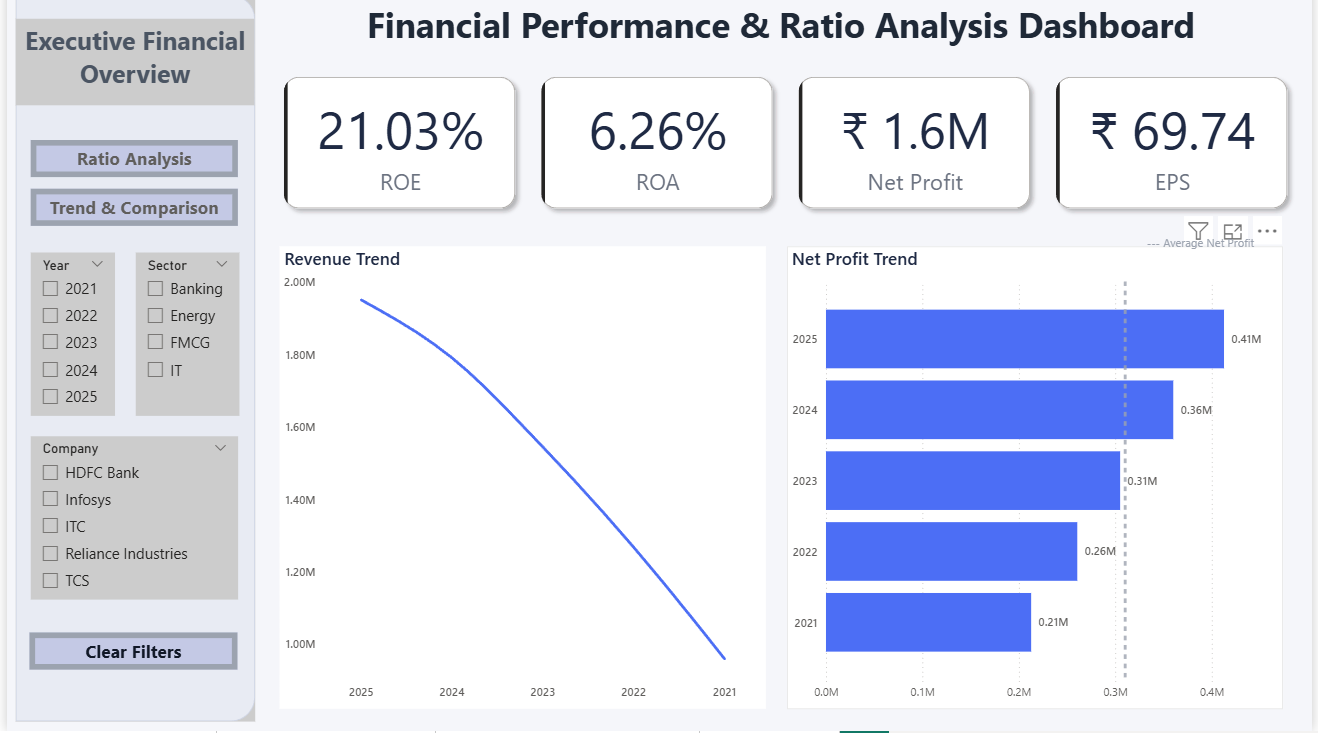

This screenshot's page, from the dashboard's own definition file:
{"tool":"powerbi","page":{"name":"Executive Financial Overview","canvas":[1400,800],"ordinal":0},"visuals":[{"type":"shape","box":[9,10.5,256.6,778.9],"z":0},{"type":"cardVisual","fields":{"Data":["Cash Flow.ROE","Cash Flow.ROA","Cash Flow.Net Profit","Cash Flow.EPS"]},"box":[280.1,81.2,1110.3,175.7],"z":1000},{"type":"lineChart","title":"Revenue Trend","fields":{"Y":["Sum(Financial_Statement.Revenue)"],"Category":["Date_Table.Year"]},"box":[292.6,279.7,521.5,496],"z":2000},{"type":"clusteredBarChart","title":"Net Profit Trend","fields":{"Y":["Sum(Financial_Statement.Net Profit)"],"Category":["Date_Table.Year"]},"box":[836.8,279.7,532.2,496],"z":3000},{"type":"textbox","box":[1216.7,261.4,139.1,27.8],"z":4000},{"type":"slicer","fields":{"Values":["Date_Table.Year"]},"box":[25,286.4,90.4,175.2],"z":5000},{"type":"slicer","fields":{"Values":["Company_Table.Company"]},"box":[25,484.2,222.5,175.2],"z":6000},{"type":"slicer","fields":{"Values":["Company_Table.Sector"]},"box":[137.6,286.4,111.2,175.2],"z":7000},{"type":"actionButton","box":[24.9,165.7,222.1,39.8],"z":8000},{"type":"actionButton","box":[24.9,218.8,222.1,39.8],"z":9000},{"type":"textbox","box":[334.8,11.6,989.4,66.3],"z":10000},{"type":"textbox","box":[9.4,36.2,256,92.5],"z":11000},{"type":"actionButton","box":[24.2,694.8,223,39.8],"z":12000}]}

Visuals, with their boxes on the page's 1400x800 design canvas (x1, y1, x2, y2). These are canvas units, not pixel positions in the 1318x733 screenshot, which may show the page scaled, cropped or inside an application window:
shape: <box>9,10,266,789</box>
cardVisual - Cash Flow.ROE x Cash Flow.ROA: <box>280,81,1390,257</box>
"Revenue Trend" lineChart: <box>293,280,814,776</box>
"Net Profit Trend" clusteredBarChart: <box>837,280,1369,776</box>
textbox: <box>1217,261,1356,289</box>
slicer - Date_Table.Year: <box>25,286,115,462</box>
slicer - Company_Table.Company: <box>25,484,248,659</box>
slicer - Company_Table.Sector: <box>138,286,249,462</box>
actionButton: <box>25,166,247,206</box>
actionButton: <box>25,219,247,259</box>
textbox: <box>335,12,1324,78</box>
textbox: <box>9,36,265,129</box>
actionButton: <box>24,695,247,735</box>
